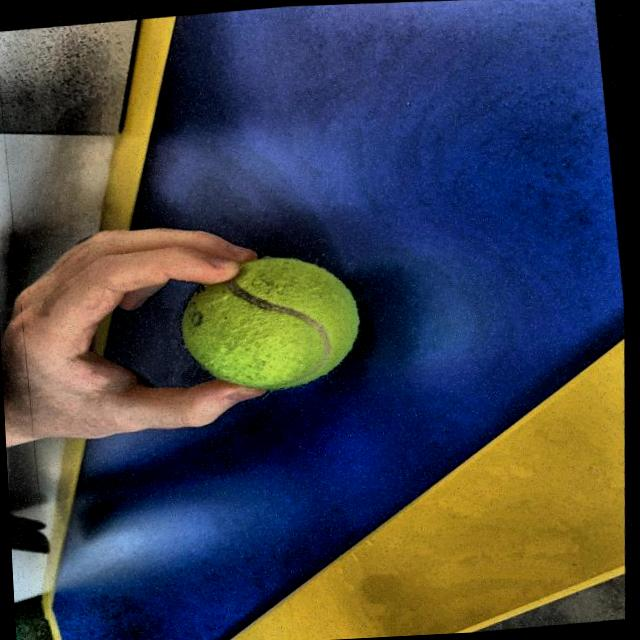Tennis Ball: (162, 249, 388, 400)
